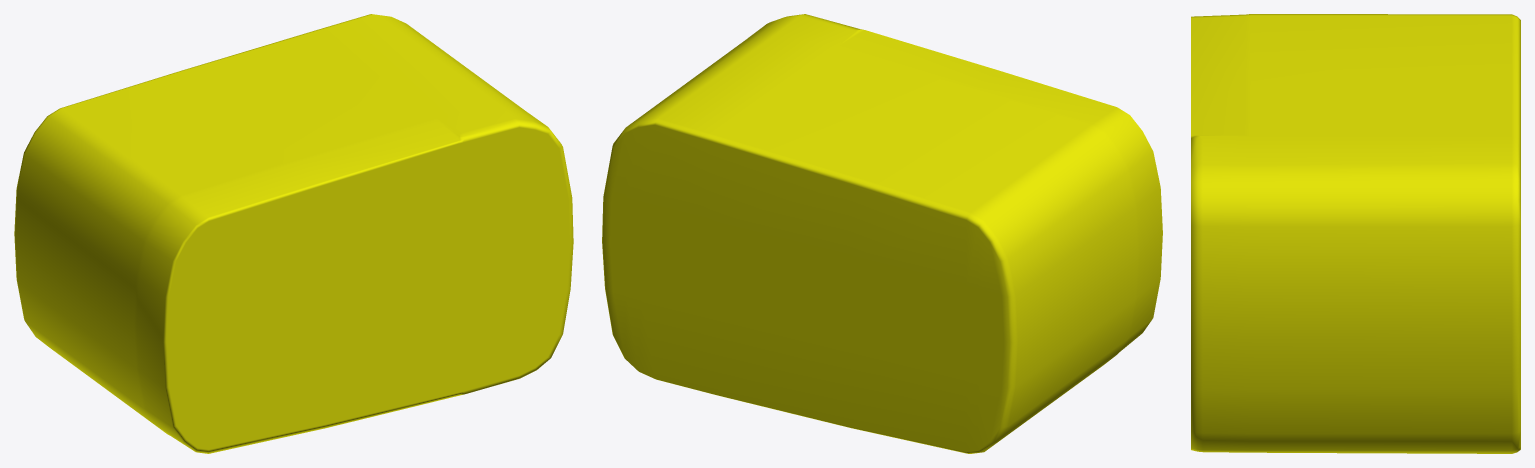
File: FancyMicrowave.fbx
3 views of the same model, side by side, from view 1: azimuth 30°, elevation 25°; view 2: azimuth 150°, elevation 25°; view 3: azimuth 270°, elevation 25° (orthographic). The views are drawn at different scales.
Parts seen in each view (by area): view 1: FancyMicrowave_Outline4; view 2: FancyMicrowave_Outline4; view 3: FancyMicrowave_Outline4.
Boxes of the visible parts, x1,y1,x2,y2 form: FancyMicrowave_Outline4: (14, 14, 573, 453); FancyMicrowave_Outline4: (602, 14, 1162, 453); FancyMicrowave_Outline4: (1191, 14, 1520, 453).
Size of the model in its own units: 247 by 149 by 155.
